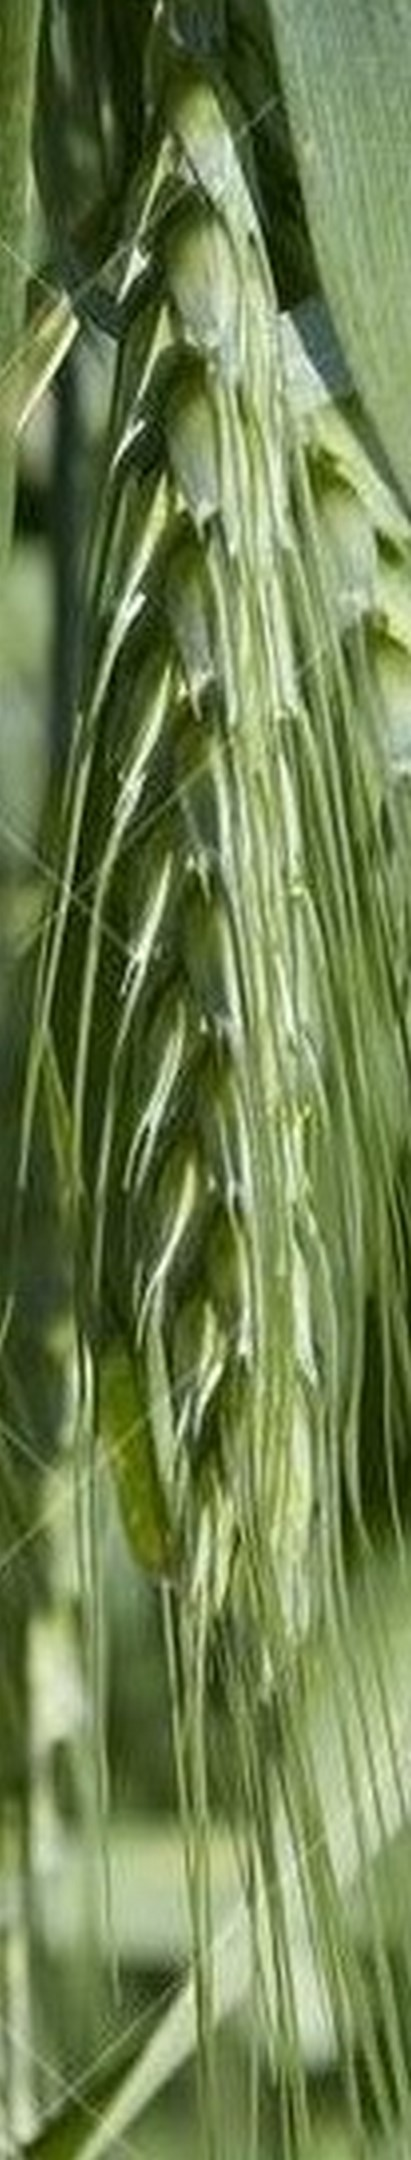Healthy Wheat: (61, 176, 394, 1704)
